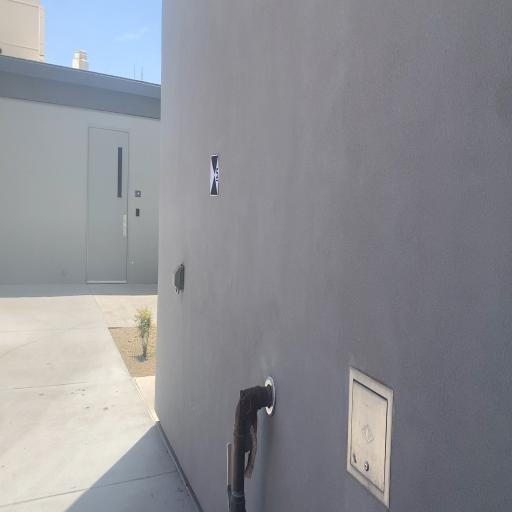target5: (211, 155, 219, 195)
